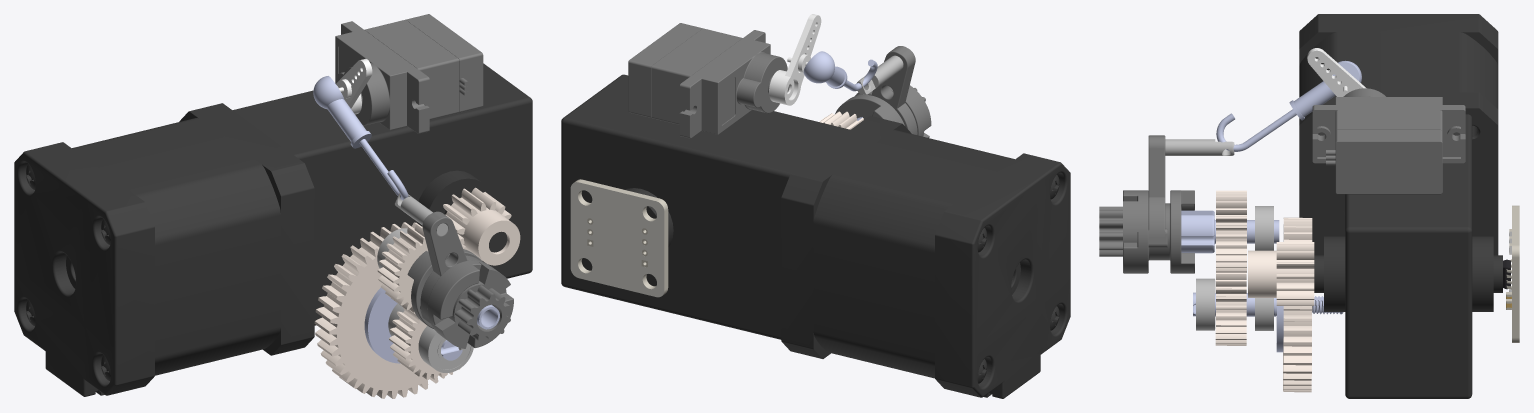
The model's file is hankKneeInternals.glb.
3 renders of one model, left to right at view 1: azimuth 30°, elevation 25°; view 2: azimuth 150°, elevation 25°; view 3: azimuth 270°, elevation 25°, orthographic. The views are drawn at different scales.
Visible parts, largest first — view 1: Rough Hub Motor Assembly-1, microservoSG90-1, spur gear_am-3, spur gear_am-4, Dog Clutch 2-1, Dog Clutch 1-1, Dog Clutch 4-1, spur gear_am-1, microservoArmJoint-1, spur gear_am-5, slip washer-1, bearing-2 (+1 smaller); view 2: Rough Hub Motor Assembly-1, microservoSG90-1, AS5600 Magnetic Encoder-1, Dog Clutch 4-1, microservoArm-1, Dog Clutch 2-1, microservoArmJoint-1, spur gear_am-1; view 3: Rough Hub Motor Assembly-1, microservoSG90-1, spur gear_am-4, Dog Clutch 2-1, spur gear_am-3, Dog Clutch 4-1, spur gear_am-1, spur gear_am-5, Dog Clutch 1-1, microservoArmJoint-1, Dog Clutch 3-1, AS5600 Magnetic Encoder-1 (+5 smaller).
Boxes of the visible parts, x1,y1,x2,y2 form: Rough Hub Motor Assembly-1: [14, 63, 532, 396]; microservoSG90-1: [335, 14, 483, 133]; spur gear_am-3: [314, 222, 447, 398]; spur gear_am-4: [443, 187, 520, 265]; Dog Clutch 2-1: [407, 249, 513, 347]; Dog Clutch 1-1: [433, 262, 511, 348]; Dog Clutch 4-1: [395, 193, 481, 323]; spur gear_am-1: [377, 224, 428, 312]; microservoArmJoint-1: [313, 76, 408, 200]; spur gear_am-5: [389, 307, 460, 380]; slip washer-1: [364, 287, 400, 363]; bearing-2: [418, 326, 473, 372]; Rough Hub Motor Assembly-1: [561, 74, 1070, 398]; microservoSG90-1: [628, 23, 789, 138]; AS5600 Magnetic Encoder-1: [570, 179, 668, 297]; Dog Clutch 4-1: [856, 46, 917, 134]; microservoArm-1: [769, 14, 821, 105]; Dog Clutch 2-1: [835, 85, 931, 136]; microservoArmJoint-1: [803, 51, 877, 91]; spur gear_am-1: [819, 111, 863, 129]; Rough Hub Motor Assembly-1: [1299, 14, 1502, 398]; microservoSG90-1: [1312, 88, 1465, 194]; spur gear_am-4: [1248, 242, 1314, 305]; Dog Clutch 2-1: [1123, 190, 1194, 273]; spur gear_am-3: [1283, 217, 1312, 392]; Dog Clutch 4-1: [1148, 135, 1234, 247]; spur gear_am-1: [1216, 190, 1246, 272]; spur gear_am-5: [1215, 273, 1246, 345]; Dog Clutch 1-1: [1099, 201, 1141, 256]; microservoArmJoint-1: [1216, 60, 1361, 151]; Dog Clutch 3-1: [1181, 210, 1279, 253]; AS5600 Magnetic Encoder-1: [1503, 205, 1519, 342].
Bounding box in the file's own units: 0.1055 × 0.0752 × 0.0887.
